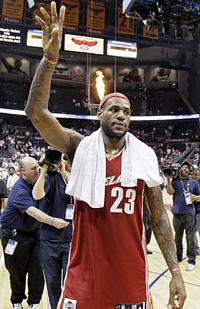person: (26, 2, 187, 309)
